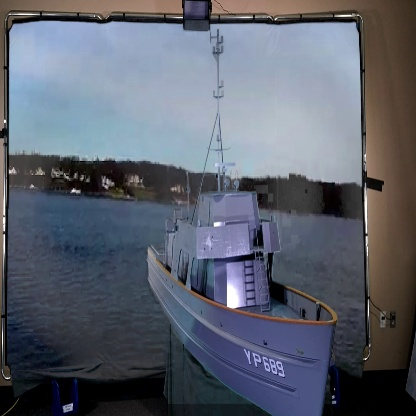YP689: (146, 29, 337, 416)
